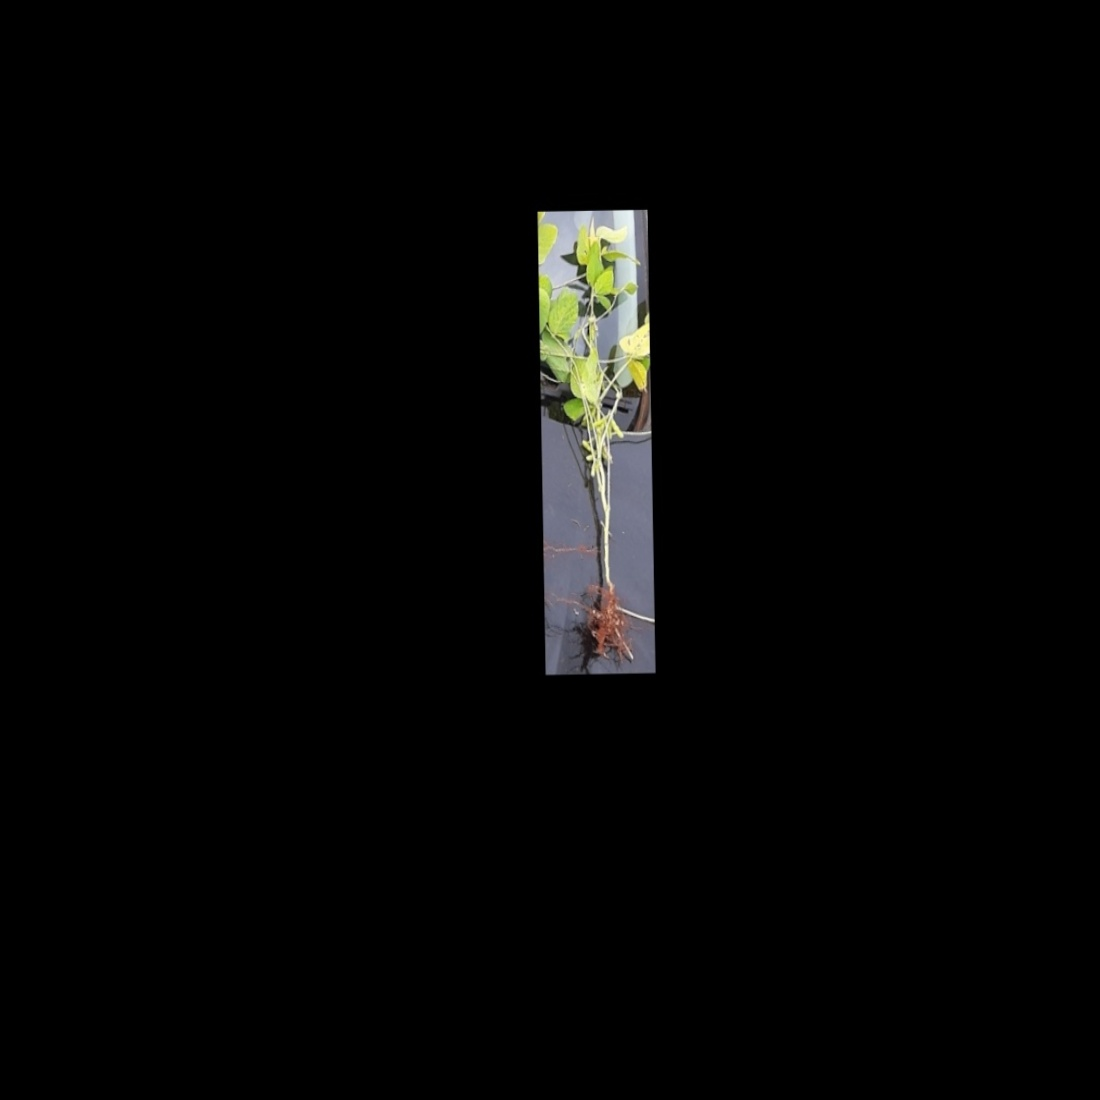pod: (609, 415, 626, 441), (579, 437, 592, 455), (588, 460, 597, 480)
soy: (545, 226, 652, 658)
